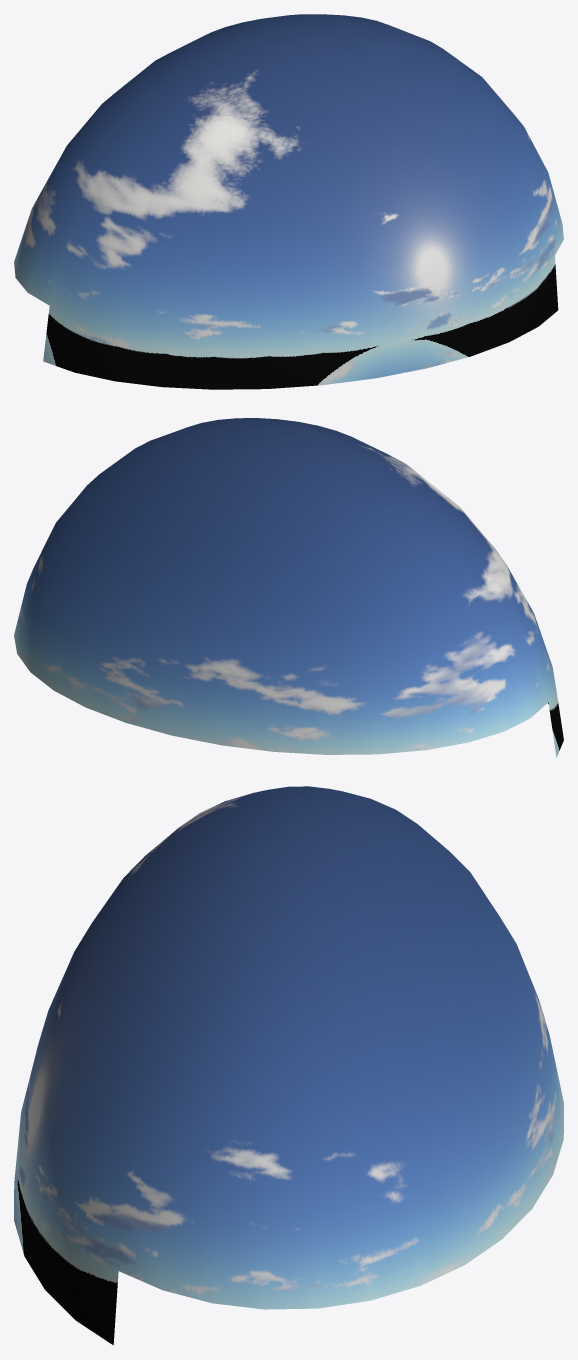
File: skyBIG.obj
The picture shows the model from 3 angles, top to bottom: view 1: azimuth 30°, elevation 25°; view 2: azimuth 150°, elevation 25°; view 3: azimuth 270°, elevation 25°; orthographic projection. The views are drawn at different scales.
Visible parts, largest first — view 1: Sphere; view 2: Sphere; view 3: Sphere.
Boxes of the visible parts, bbox=[...] form: Sphere: bbox=[14, 14, 563, 389]; Sphere: bbox=[14, 418, 563, 757]; Sphere: bbox=[14, 786, 563, 1345].
Size of the model in its own units: 16000 by 8519 by 10998.
Materials: 1 (1 with a texture image).
